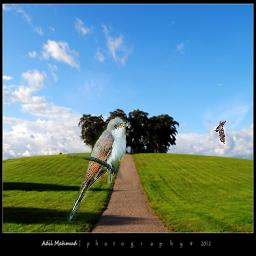Cuckoo: (68, 116, 127, 222)
Woodpecker: (214, 120, 226, 146)
